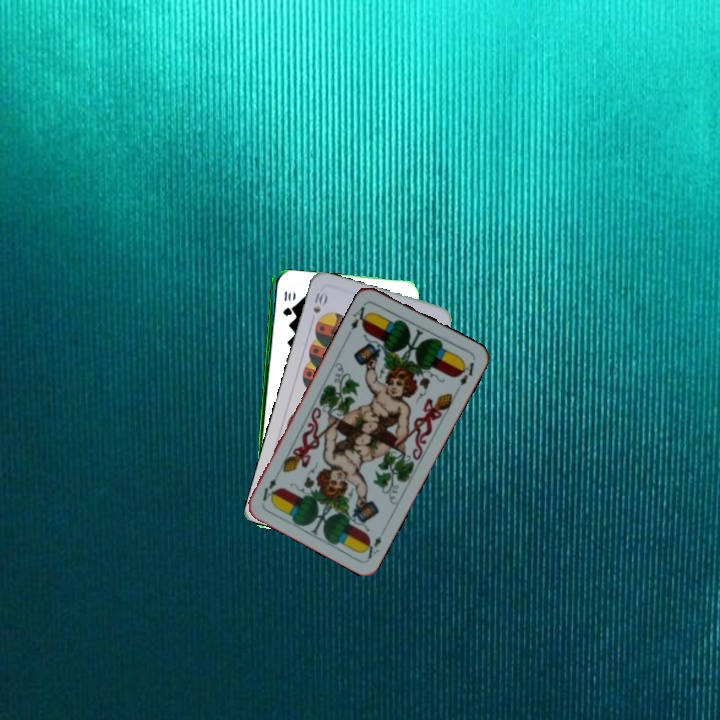EA: (347, 299, 373, 333), (359, 532, 384, 562)
G10: (279, 287, 293, 318)
S10: (309, 288, 330, 316)
